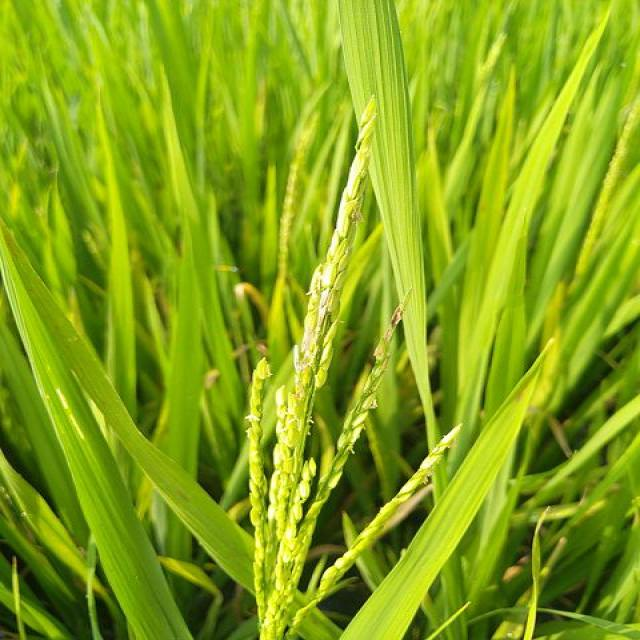Panicle Blight: (372, 304, 401, 378)
